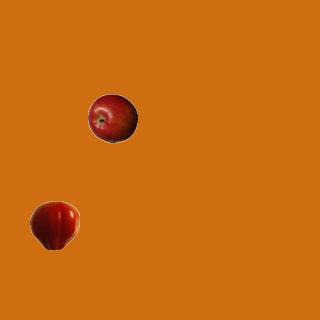Apple Braeburn: (87, 93, 137, 143)
Tomato 1: (29, 200, 79, 250)
